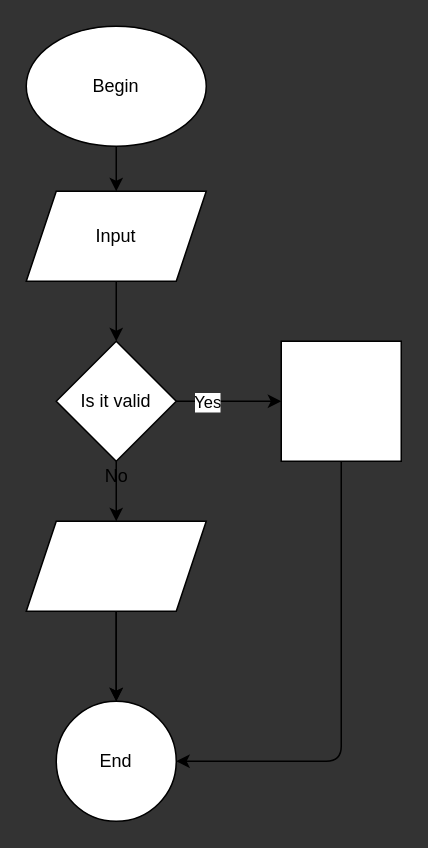
Image size: 428x848. Some labels were removed from this diagram. The centre of each missing label's shape, as x and y in pixels:
"Error Message" goes at (x=115, y=565).
"Run all algorithms" goes at (x=340, y=400).
